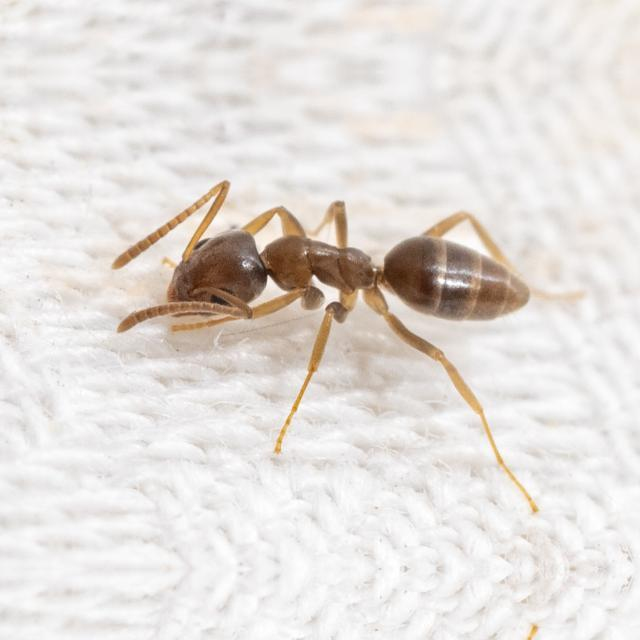Tapinoma: (116, 158, 576, 392)
